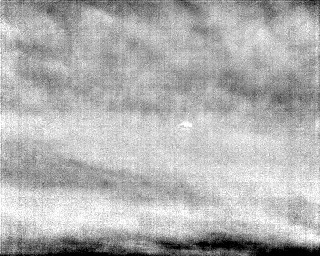BIRD: (176, 118, 196, 134)
